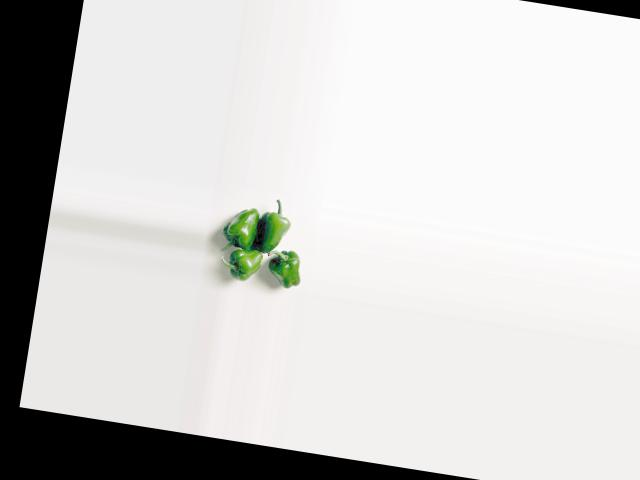bell_pepper: (219, 247, 265, 283)
